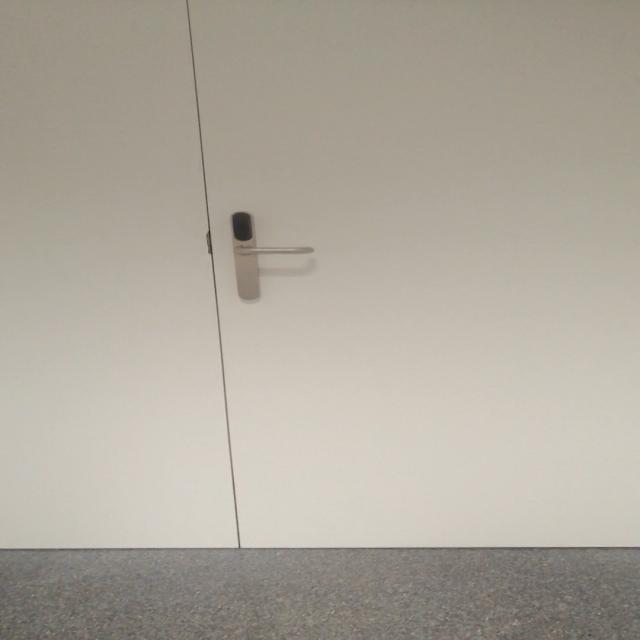door_handle: (231, 243, 320, 259)
